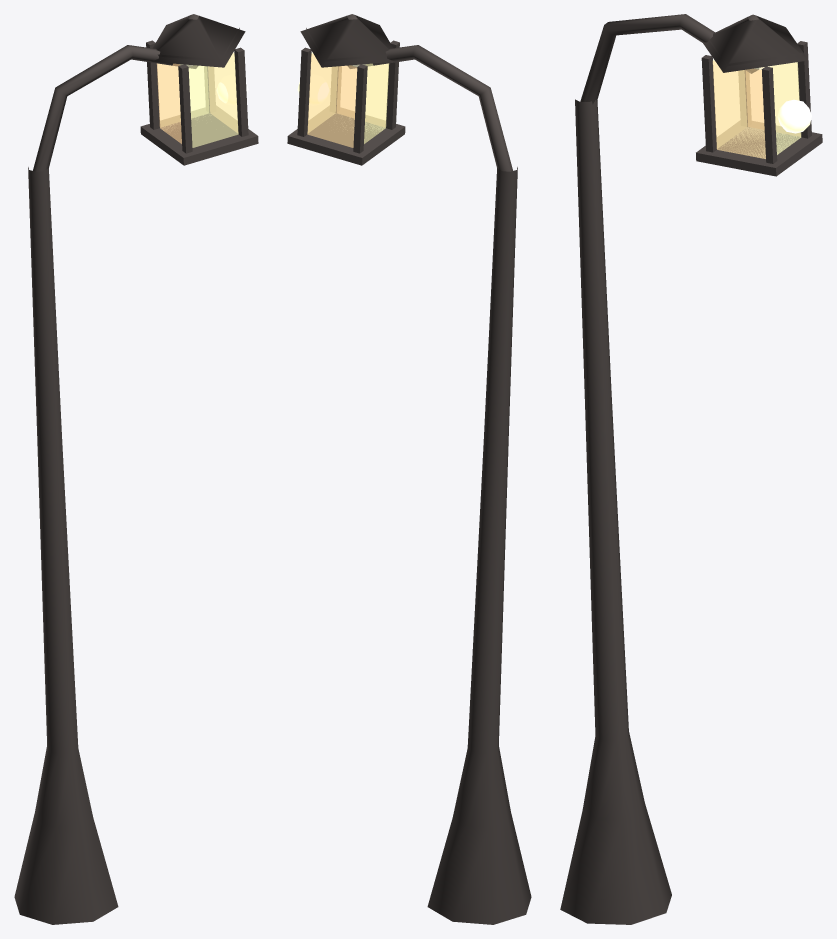
Rendered from old_lamp.glb.
3 views of the same model, side by side, from view 1: azimuth 30°, elevation 25°; view 2: azimuth 150°, elevation 25°; view 3: azimuth 330°, elevation 25° (orthographic). The views are drawn at different scales.
Parts seen in each view (by area): view 1: lamp_body, lamp_glass; view 2: lamp_body, lamp_glass; view 3: lamp_body, lamp_glass, lamp_bulb.
Part boxes in pixels (x1,y1,x2,y2): lamp_body: [14, 14, 258, 924]; lamp_glass: [157, 52, 238, 147]; lamp_body: [287, 14, 531, 924]; lamp_glass: [307, 52, 388, 147]; lamp_body: [560, 14, 822, 924]; lamp_glass: [712, 59, 801, 158]; lamp_bulb: [777, 99, 811, 133].
Bounding box in the file's own units: 1.21 × 4.39 × 0.54.
